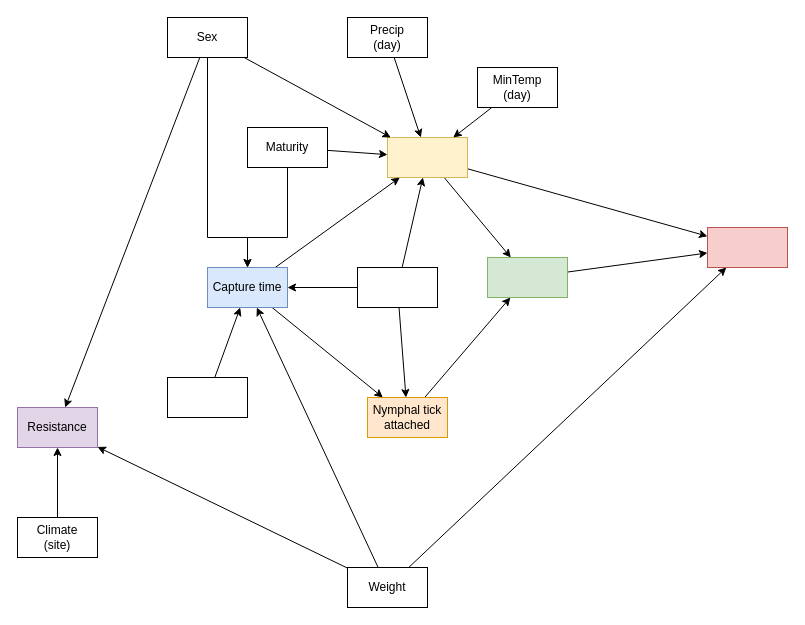
Image size: 805x625. Some labels were removed from this diagram. The shapes that lost their labels are listed below. From the top down, each one's centre as x and y in pixels, then its label:
At point 427,157: "Larval tick attached".
At point 747,247: "P(infected)".
At point 397,287: "Humidity (day)".
At point 527,277: "Tolerance".
At point 207,397: "MeanTemp (day)".
